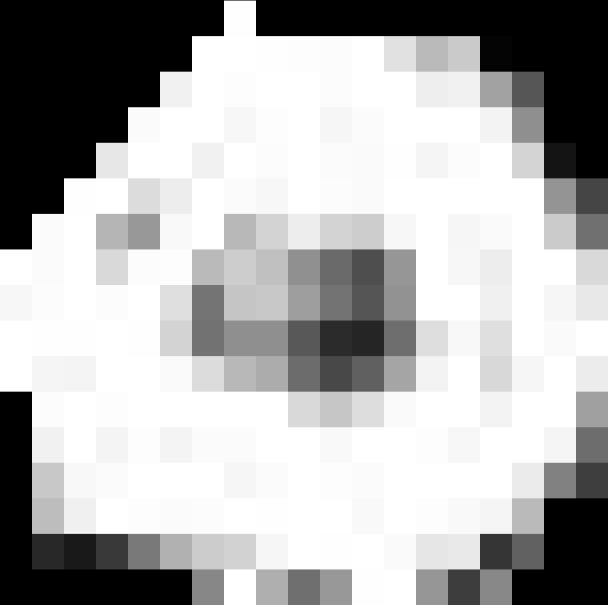tumor_good_chance: (0, 1, 608, 605)
